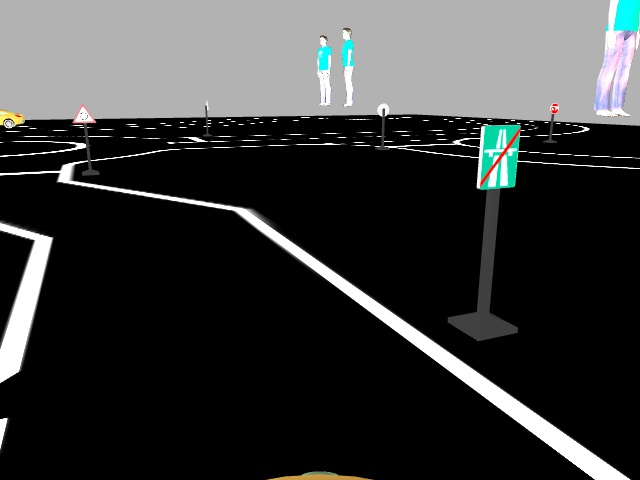HighwayExit: (474, 124, 519, 188)
